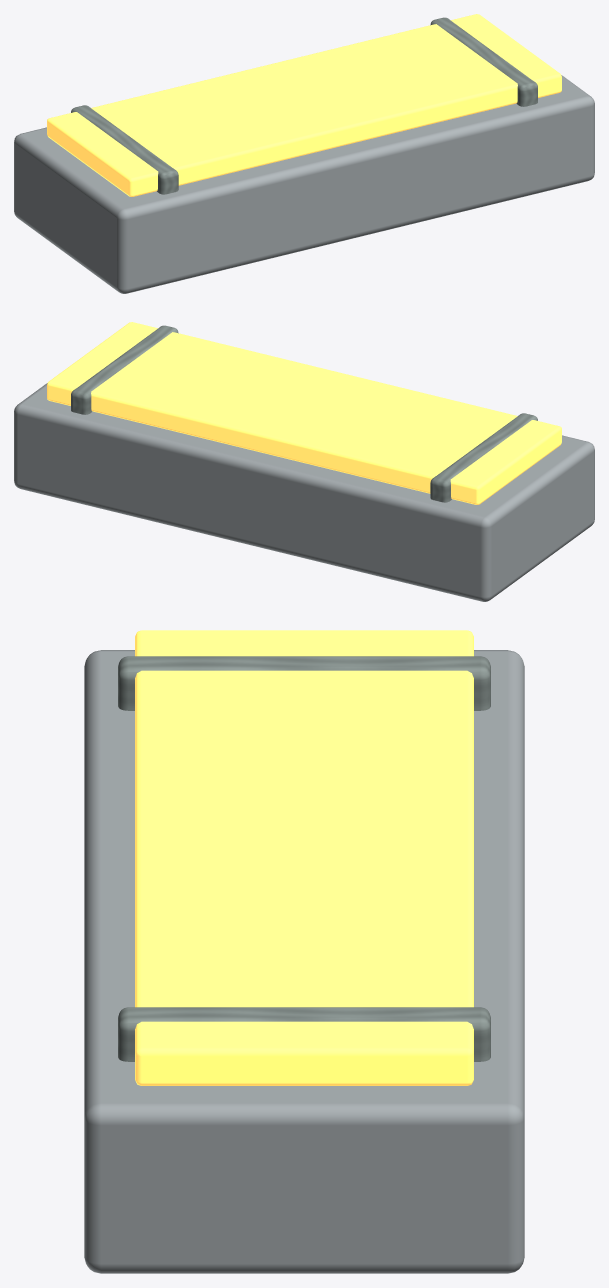
File: liminal-spaces-kit-sodium-lamp-4acfe206__25320.glb
3 renders of one model, top to bottom at view 1: azimuth 30°, elevation 25°; view 2: azimuth 150°, elevation 25°; view 3: azimuth 270°, elevation 25°, orthographic. The views are drawn at different scales.
Visible parts, largest first — view 1: sodium-lamp; view 2: sodium-lamp; view 3: sodium-lamp.
Part boxes in pixels (x1=…): sodium-lamp: x1=14, y1=14, x2=594, y2=293; sodium-lamp: x1=14, y1=322, x2=594, y2=601; sodium-lamp: x1=84, y1=630, x2=524, y2=1273.
Bounding box in the file's own units: 0.65 × 0.1362 × 0.26.
Materials: 3 (1 with a texture image).
